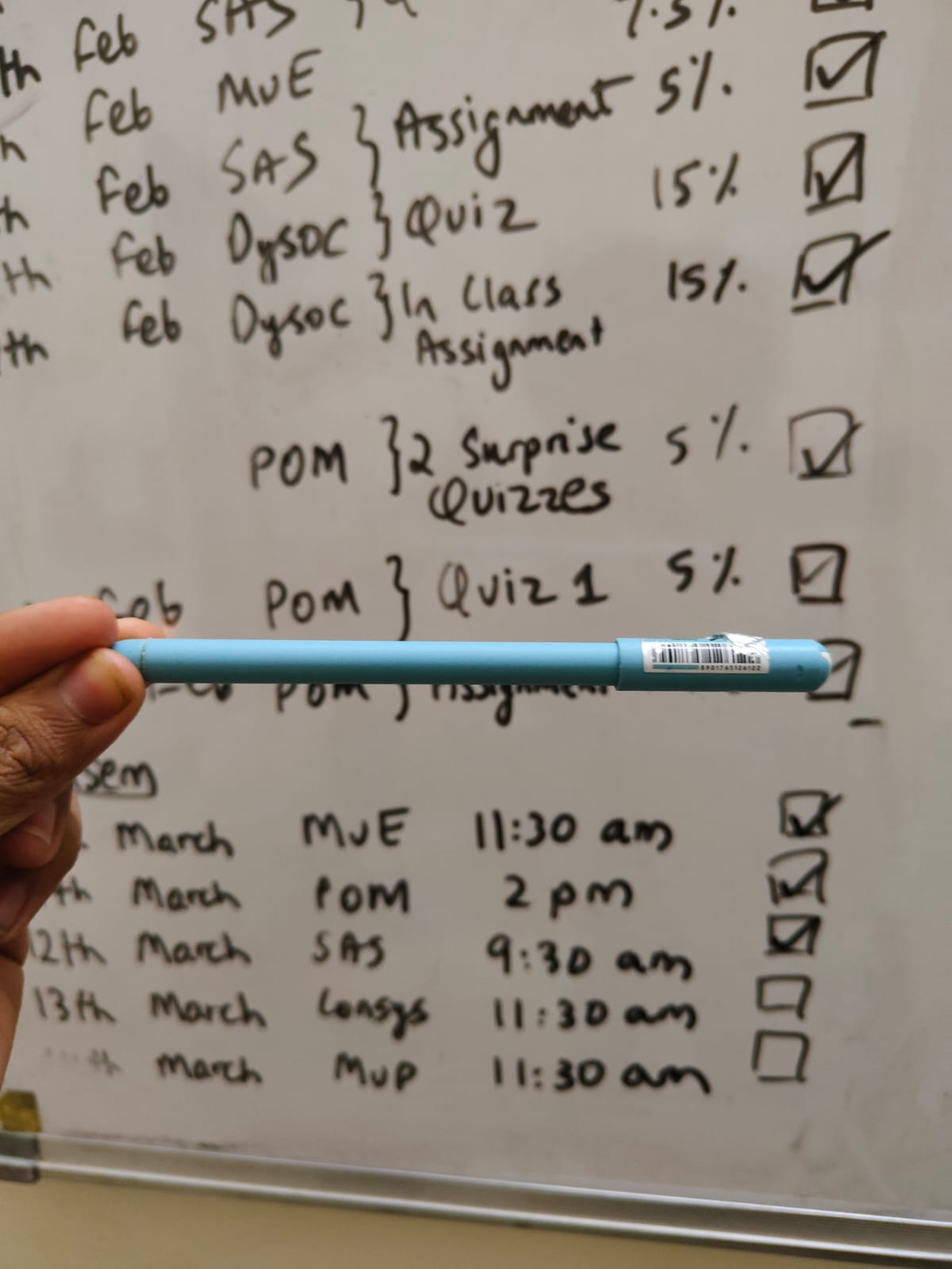pen: (88, 617, 862, 703)
